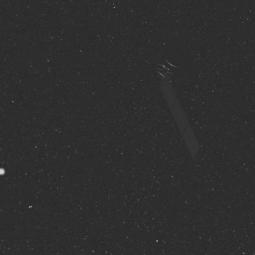earth_observation_sat_1: (147, 41, 209, 115)
